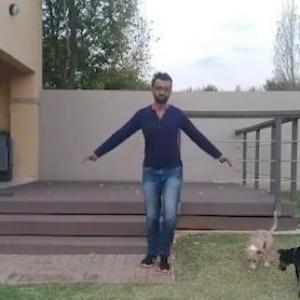land: (76, 80, 228, 252)
